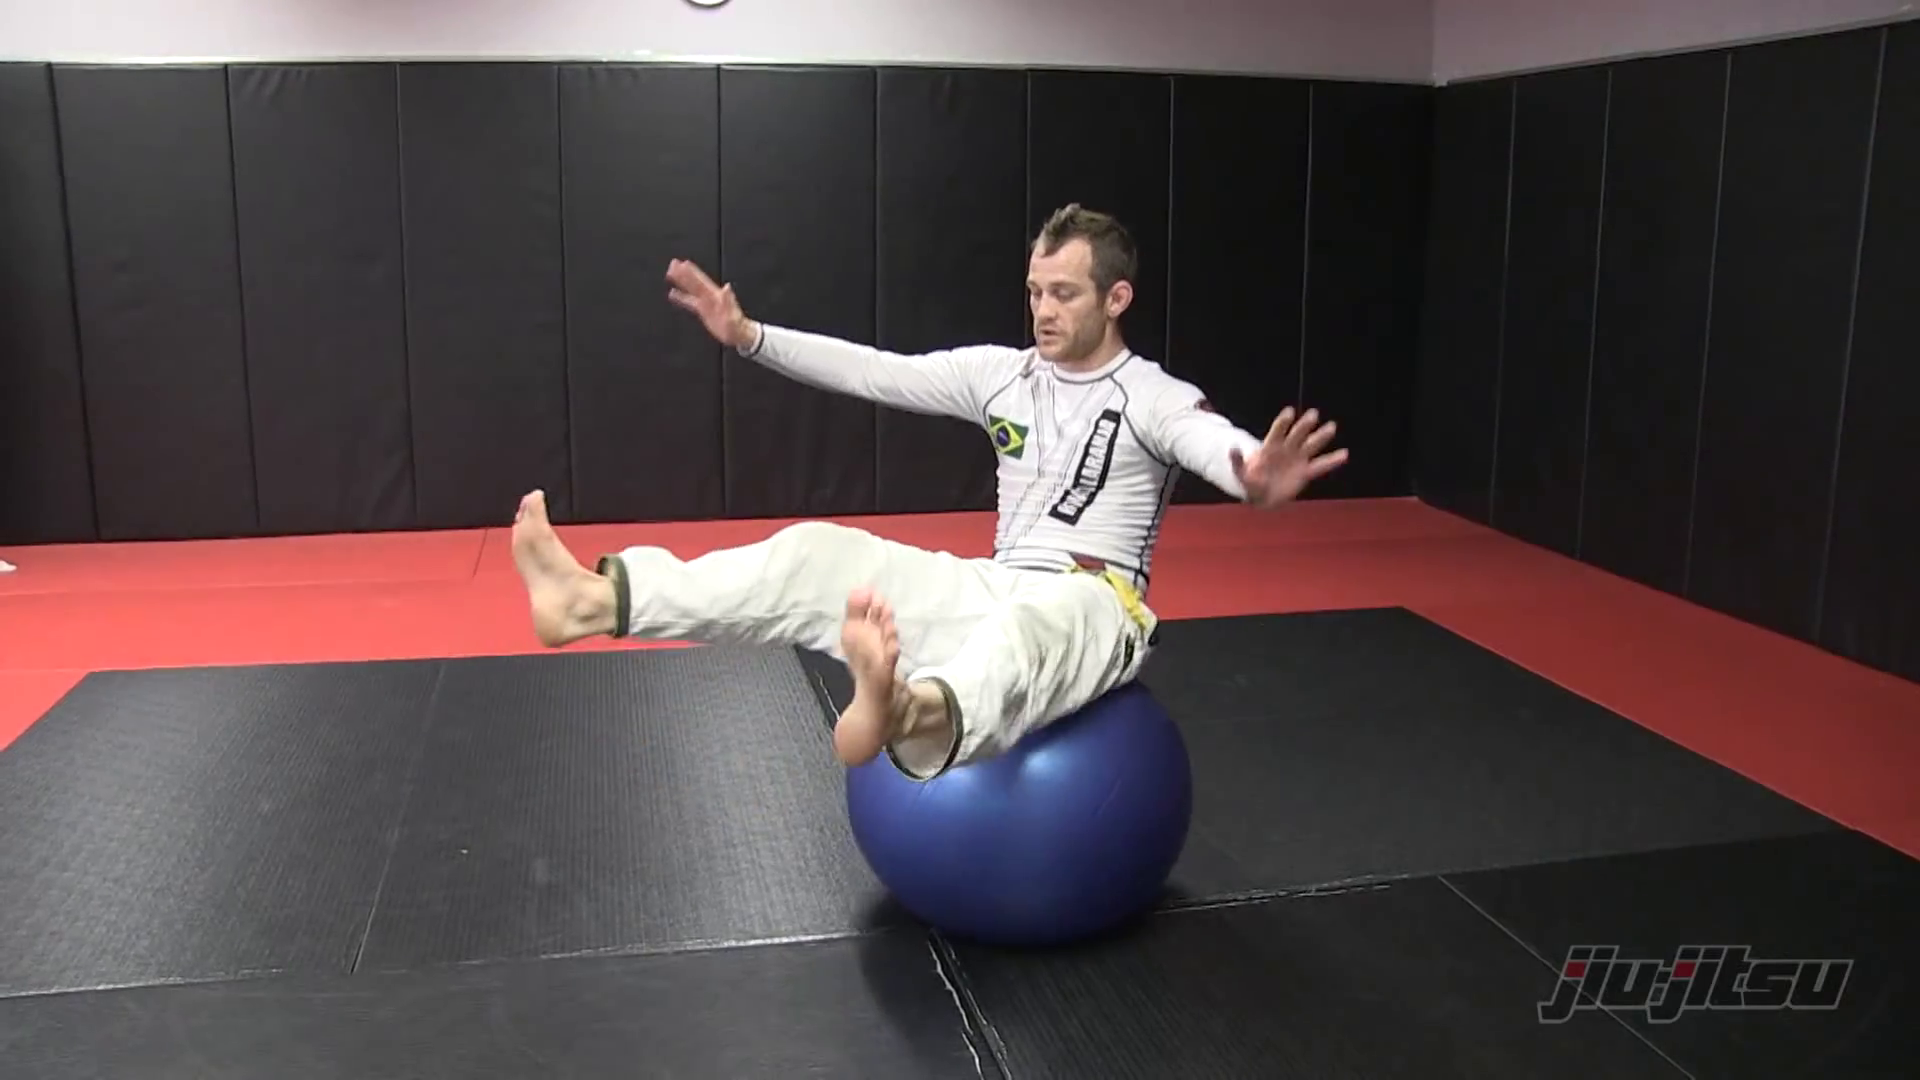yogaball: (814, 670, 1224, 957)
